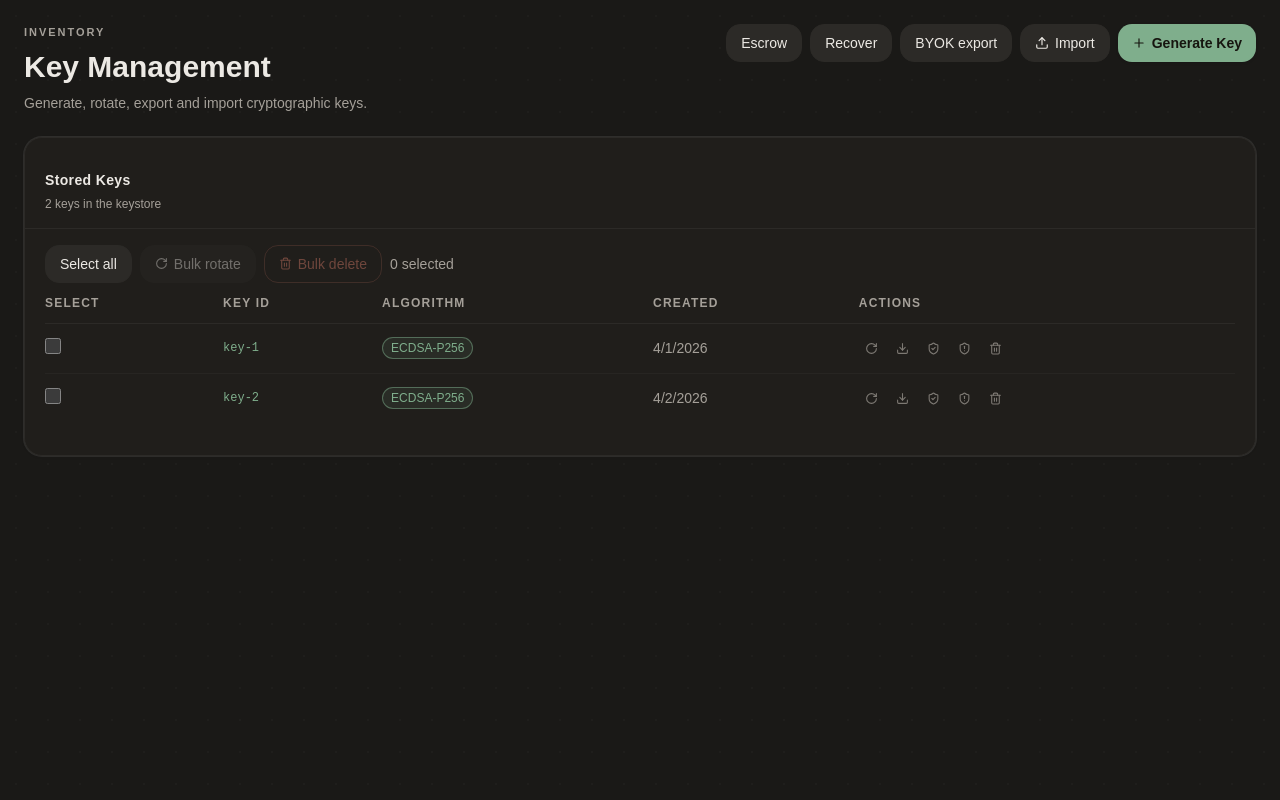
Test case: Keys page bulk actions (W8-11) › selects multiple keys and bulk rotates, reporting per-item partial failure
Click the checkbox named "select key-": {"x": 53, "y": 346} [45,338,61,354]
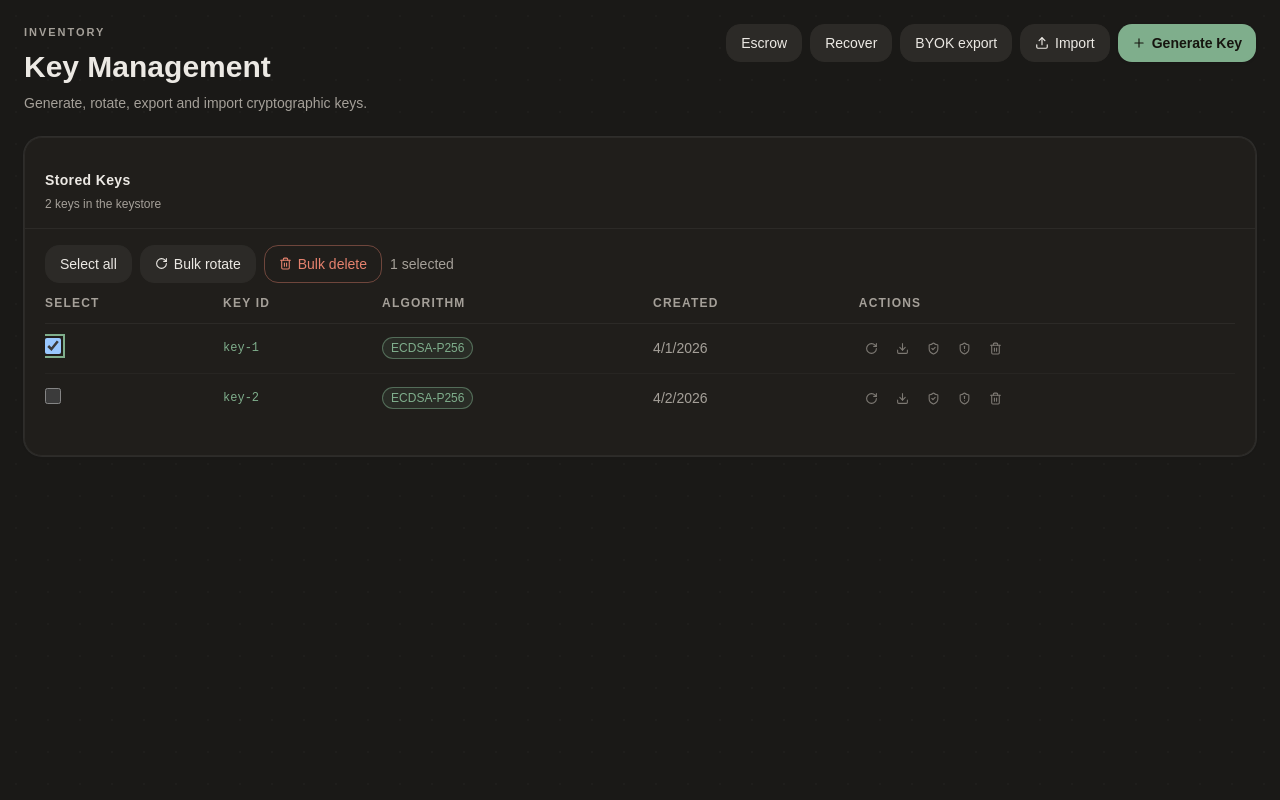
Click the checkbox named "select key-": {"x": 53, "y": 396} [45,388,61,404]
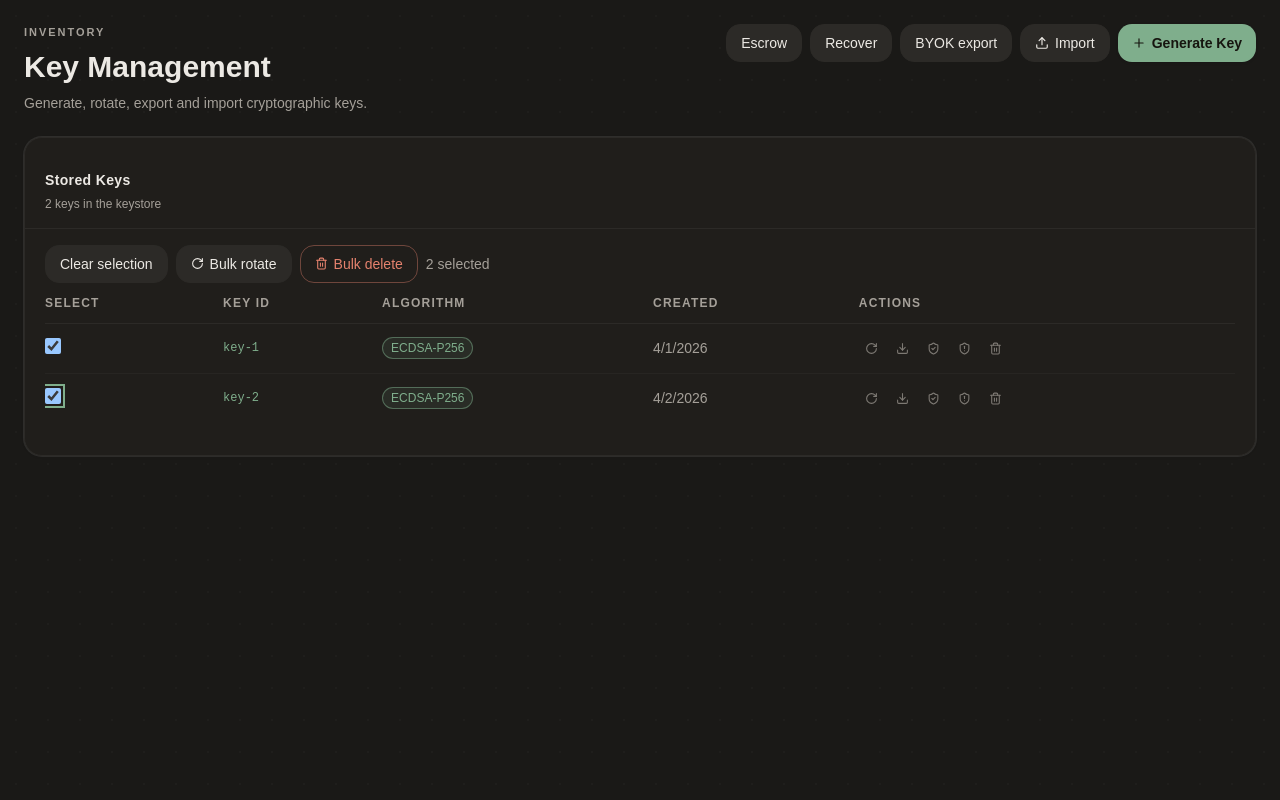
Expected: the text "2 selected" is shown, [426,254,490,274]
Click the button "Bulk rotate": {"x": 234, "y": 264} [176,244,292,282]
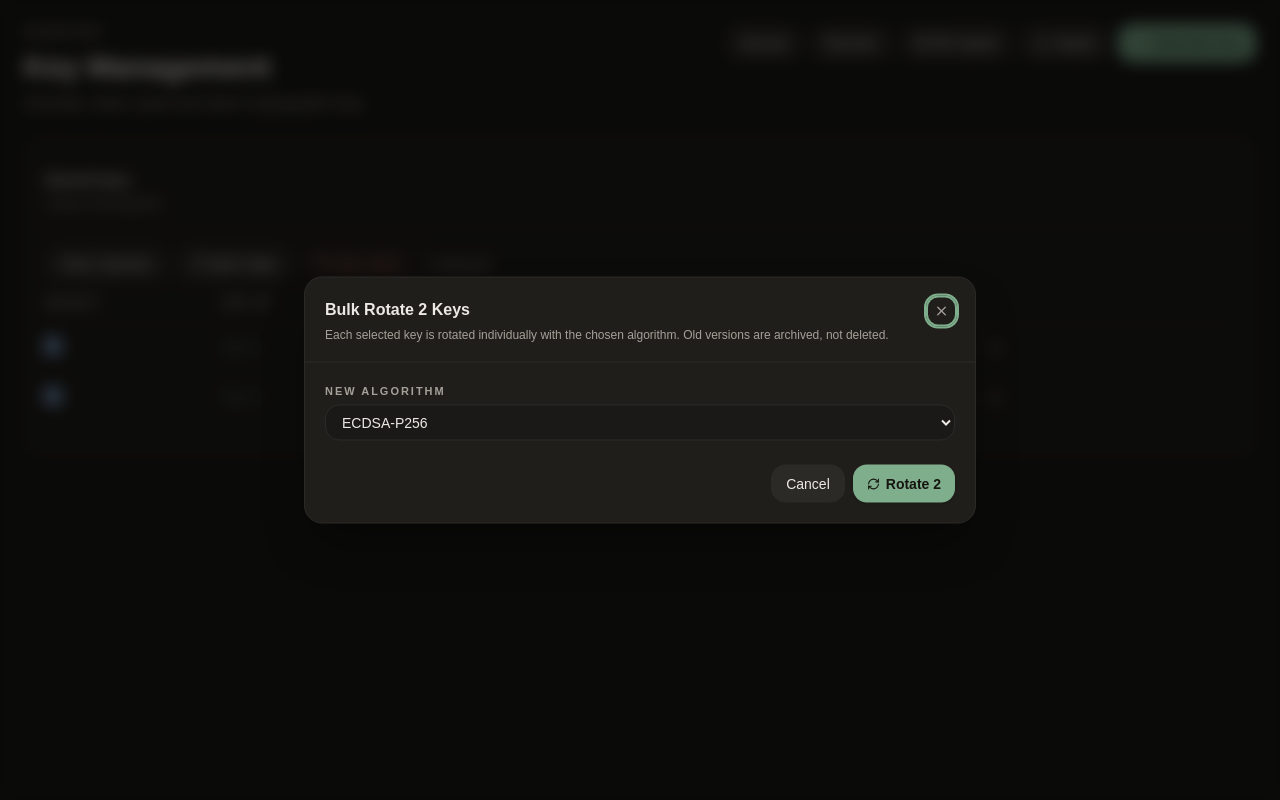
Click the button "Rotate 2": {"x": 904, "y": 484} [853,464,955,502]
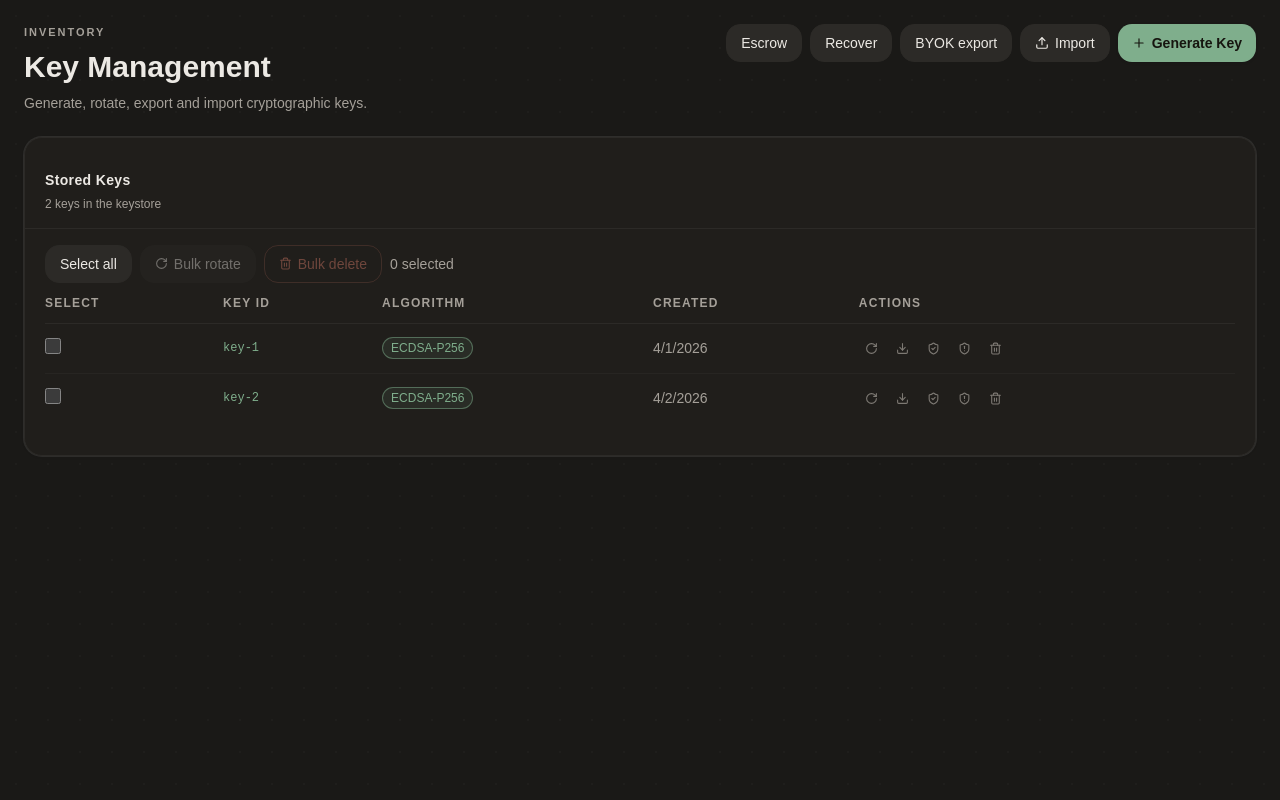
Expected: the dialog is gone
